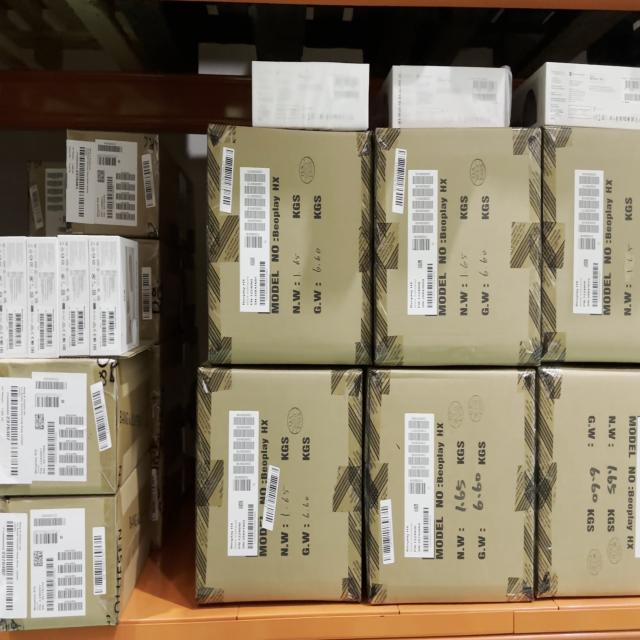box: (369, 370, 535, 602), (198, 368, 361, 602), (378, 129, 540, 363), (210, 134, 370, 362), (68, 131, 157, 234), (253, 64, 369, 126), (394, 69, 505, 127), (27, 238, 58, 356), (59, 236, 88, 355), (91, 236, 118, 355)
